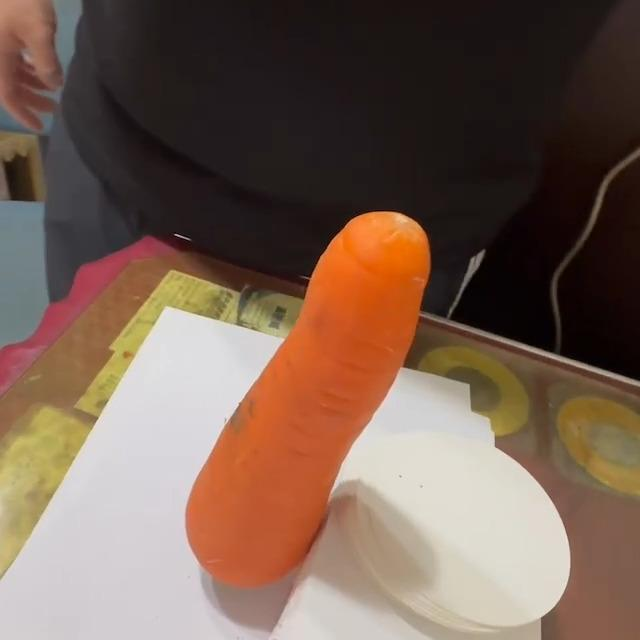carrot: (184, 211, 431, 591)
